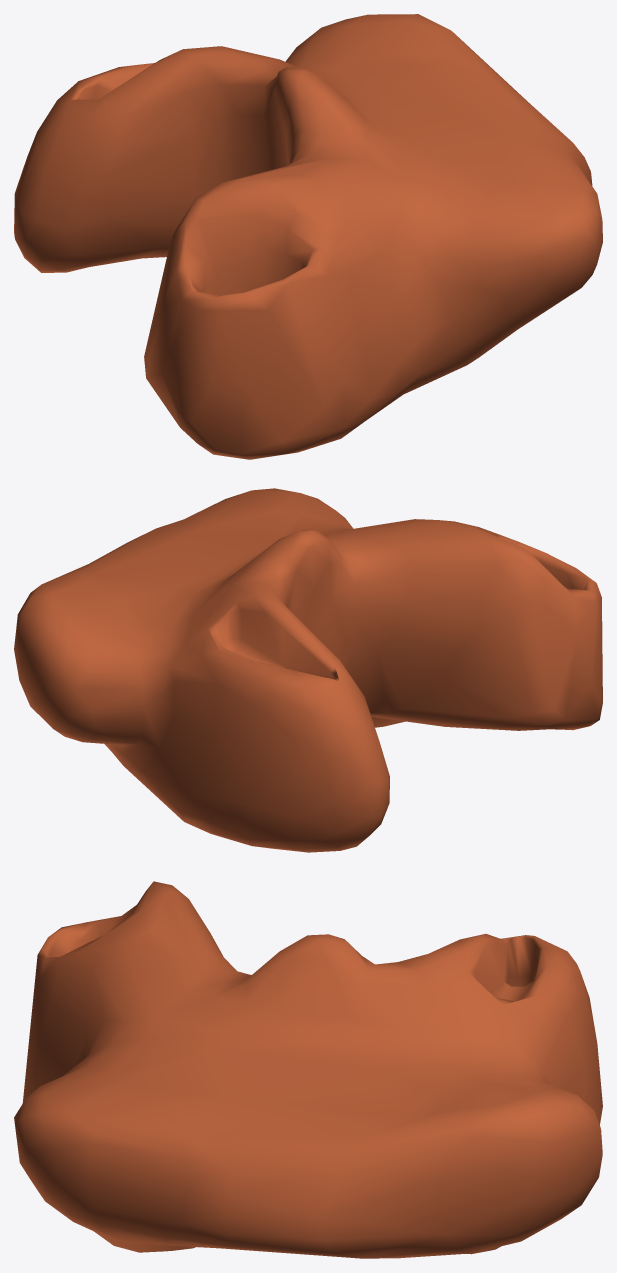
Rendered from Liver_Puzzle.fbx.
3 renders of one model, top to bottom at view 1: azimuth 30°, elevation 25°; view 2: azimuth 150°, elevation 25°; view 3: azimuth 270°, elevation 25°, orthographic. The views are drawn at different scales.
Parts seen in each view (by area): view 1: Liver; view 2: Liver; view 3: Liver.
Boxes of the visible parts, box(x1,y1,x2,y2) form: Liver: box(14, 14, 602, 459); Liver: box(14, 488, 602, 852); Liver: box(14, 881, 602, 1258).
Size of the model in its own units: 7.72 by 4 by 7.36.
